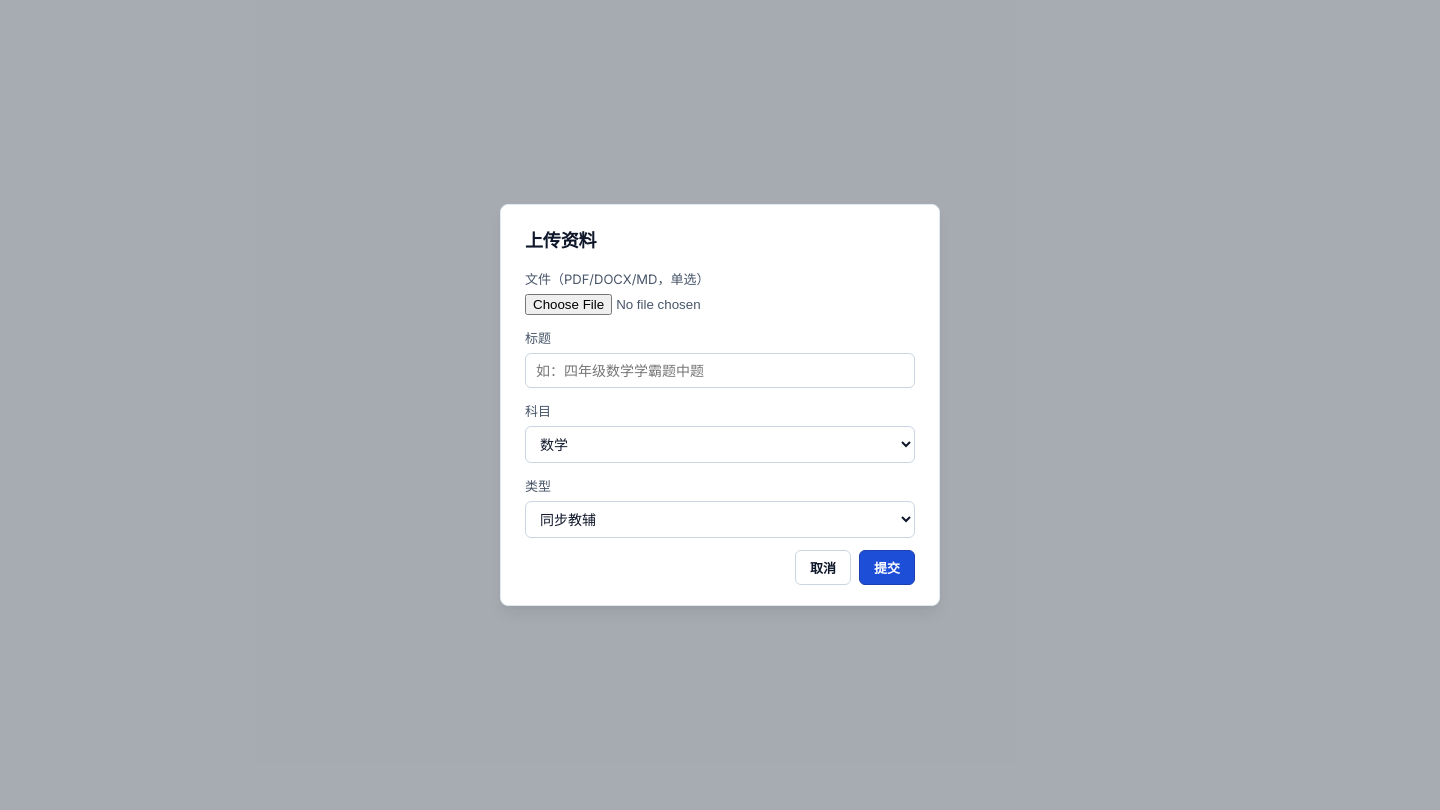
Test: LibraryUploadDialog › 文件/标题缺失时不提交并报错
The width and height of the screenshot is (1440, 810).
Step 1. Click the button "提交" → (887, 568), box left=859, top=550, right=915, bottom=585
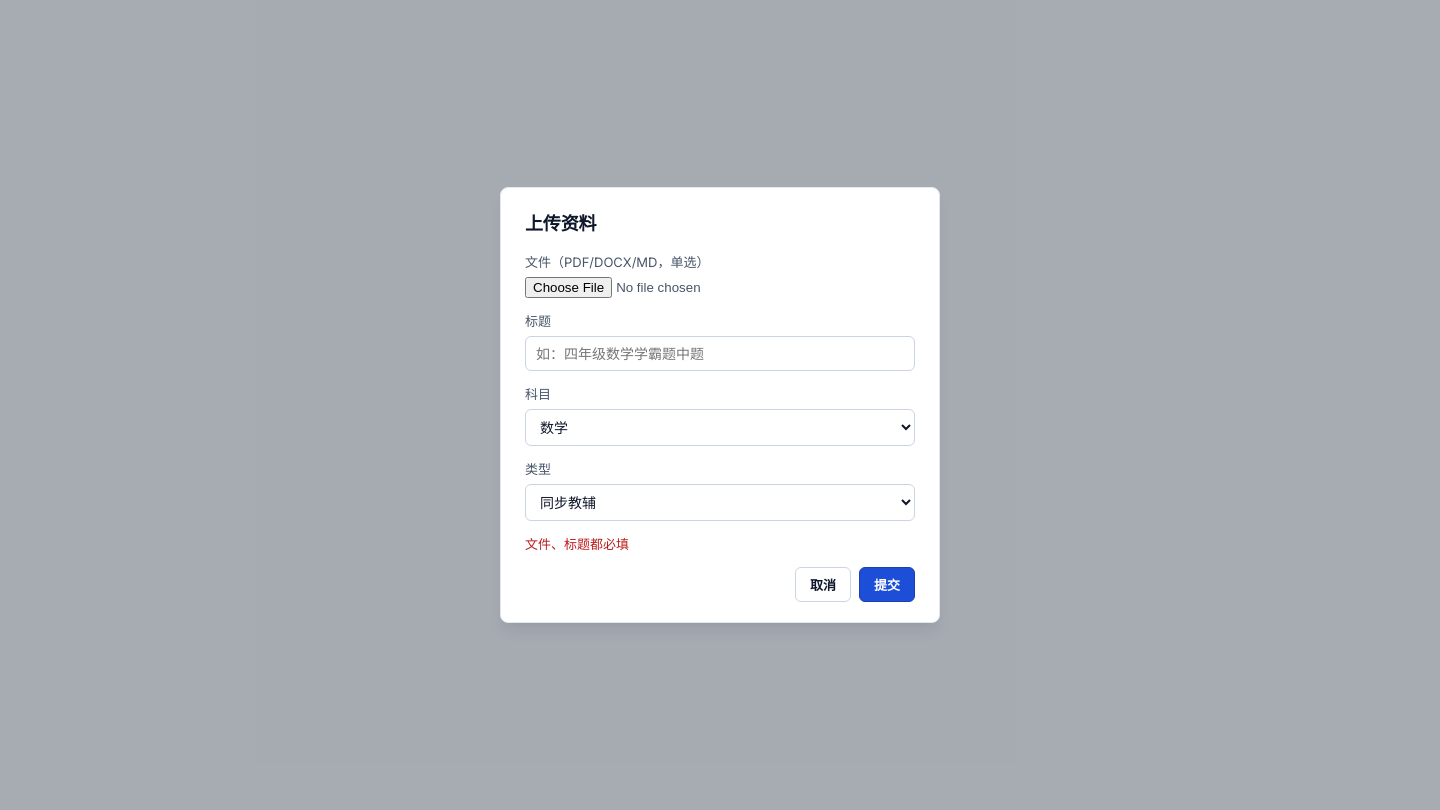
Check: the text "文件、标题都必填" is shown, box left=525, top=536, right=629, bottom=552
